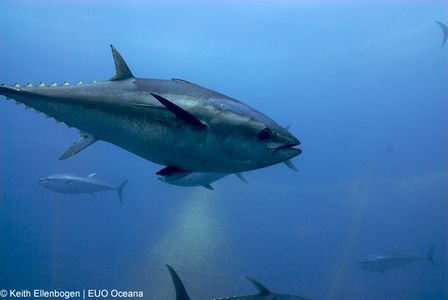Bluefina Tuna: (7, 45, 307, 192)
